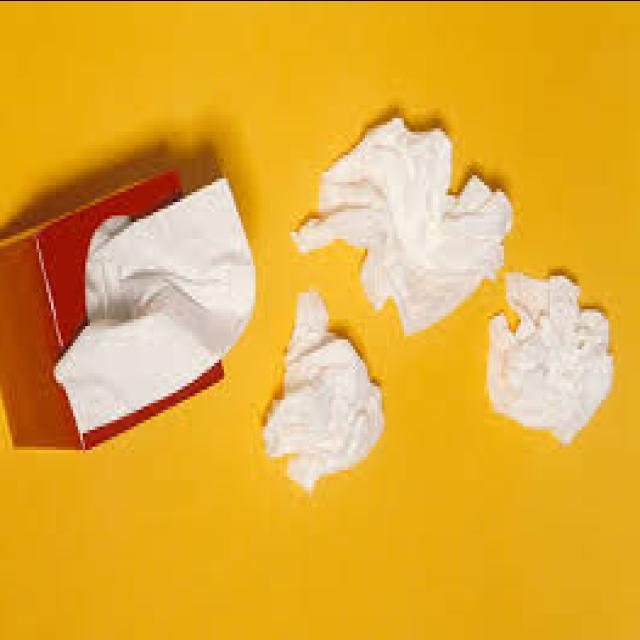tissue: (57, 181, 255, 432), (293, 117, 513, 334), (264, 291, 384, 489), (488, 272, 613, 442)
